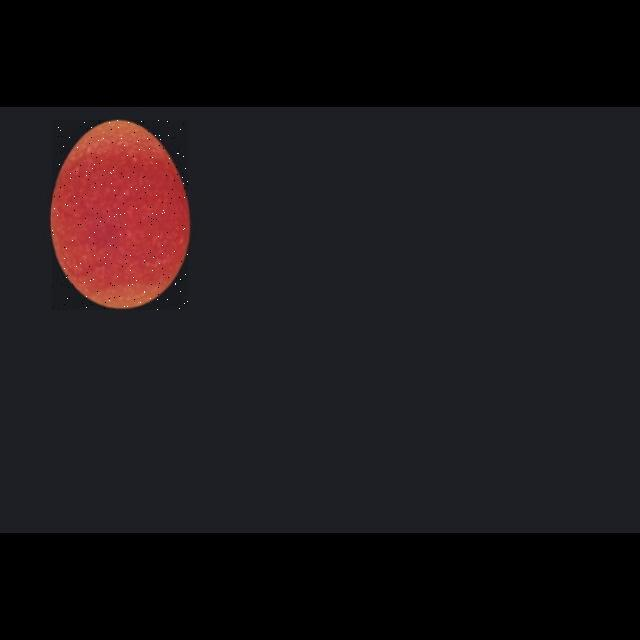Fertile: (52, 120, 188, 310)
